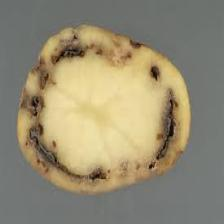Diseased-fungal potato: (13, 18, 196, 199)
